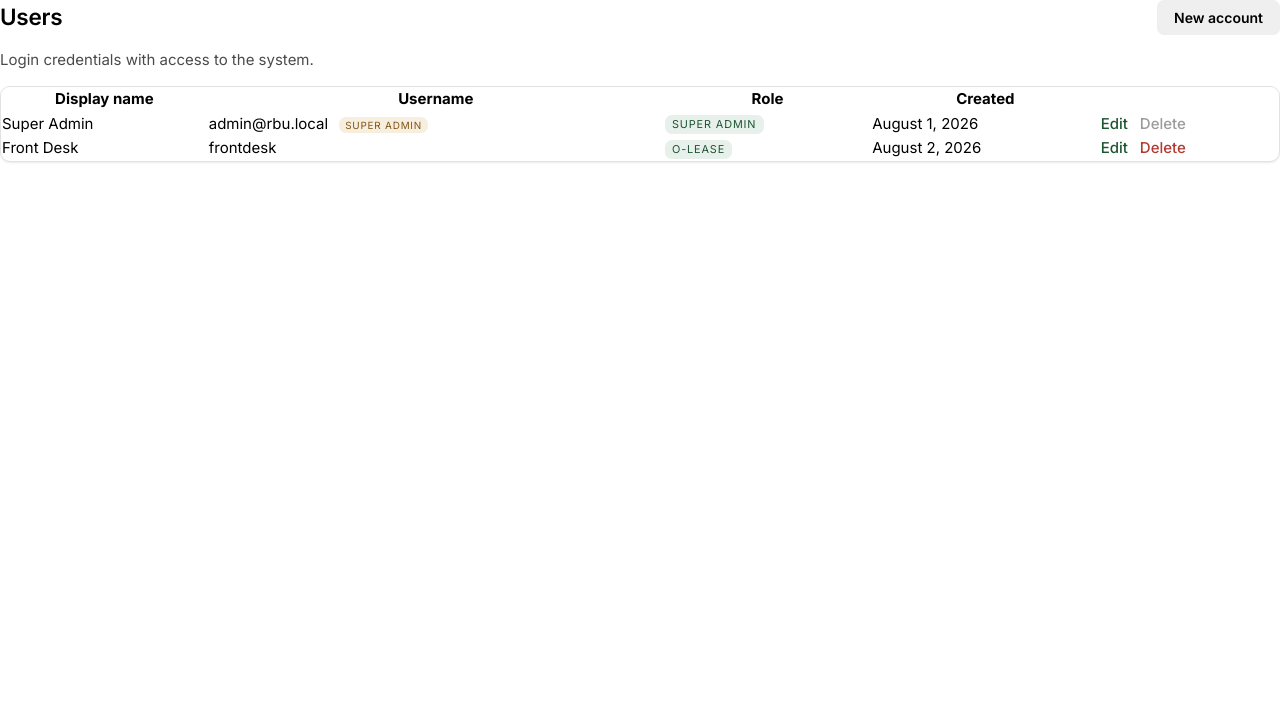
Test: UsersView › tells the admin a password cannot be viewed again once saved
Click the button "New account": click(1219, 18) [1157, 0, 1279, 35]
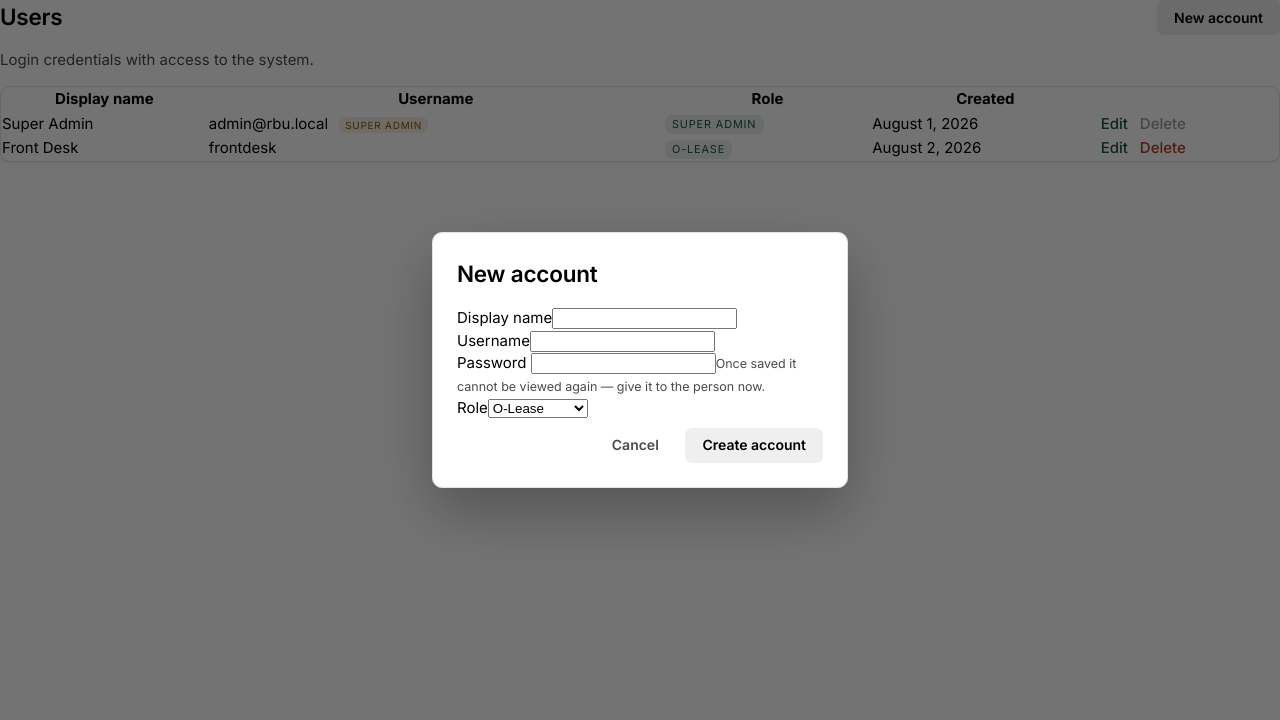
Expected: the dialog with class "modal" shows "cannot be viewed again", [457, 356, 796, 394]
